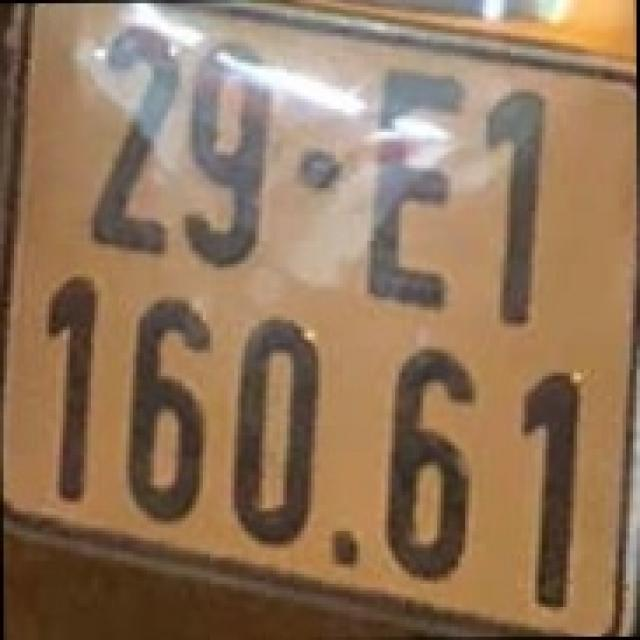0: (224, 310, 329, 548)
1: (507, 362, 598, 614), (476, 79, 566, 330), (34, 274, 109, 508)
2: (76, 27, 178, 260)
6: (374, 337, 486, 587), (119, 294, 217, 524)
9: (184, 36, 288, 270)
E: (360, 62, 465, 324)
